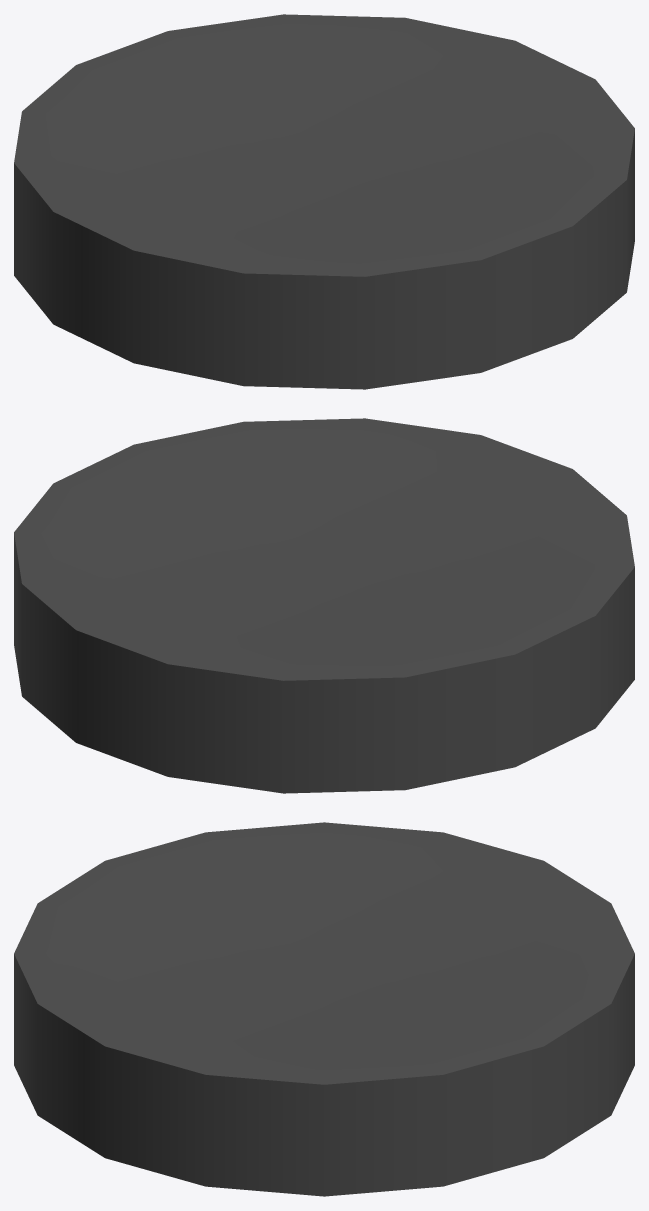
Rendered from Stylus_Analog_Button.obj.
3 views of the same model, one above another, from view 1: azimuth 30°, elevation 25°; view 2: azimuth 150°, elevation 25°; view 3: azimuth 270°, elevation 25° (orthographic).
Parts seen in each view (by area): view 1: Stylus_Analog_Button_Analog; view 2: Stylus_Analog_Button_Analog; view 3: Stylus_Analog_Button_Analog.
Boxes of the visible parts, bbox=[...] form: Stylus_Analog_Button_Analog: bbox=[14, 14, 634, 389]; Stylus_Analog_Button_Analog: bbox=[14, 418, 634, 793]; Stylus_Analog_Button_Analog: bbox=[14, 822, 634, 1196].
Bounding box in the file's own units: 0.00856 × 0.0017 × 0.00856.
1 material, 1 textured.
